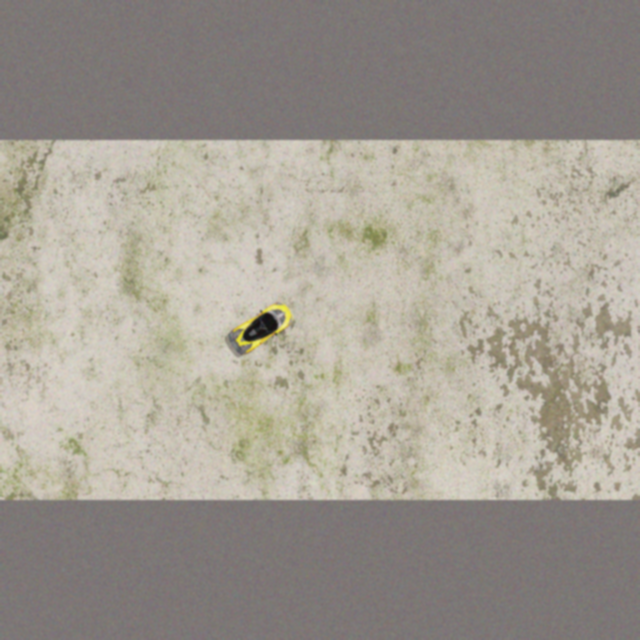car: (224, 296, 298, 358)
